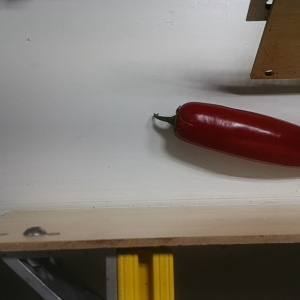Cut Point: (164, 100, 197, 141)
